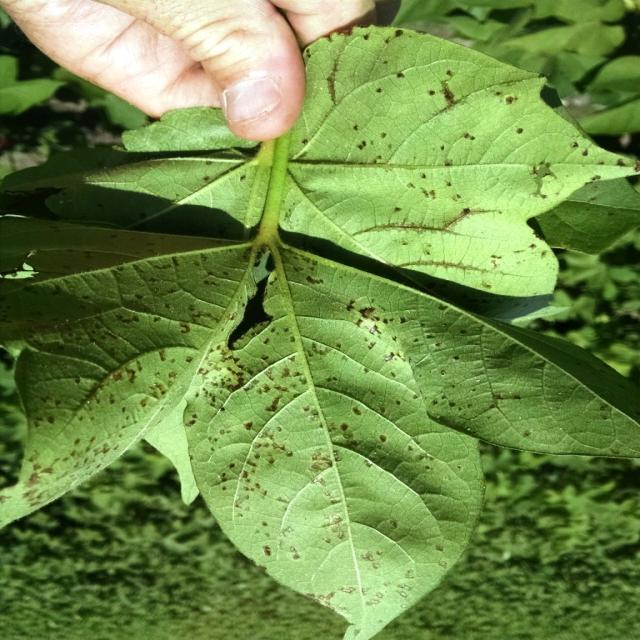Bacterial Blight: (60, 314, 560, 516)
